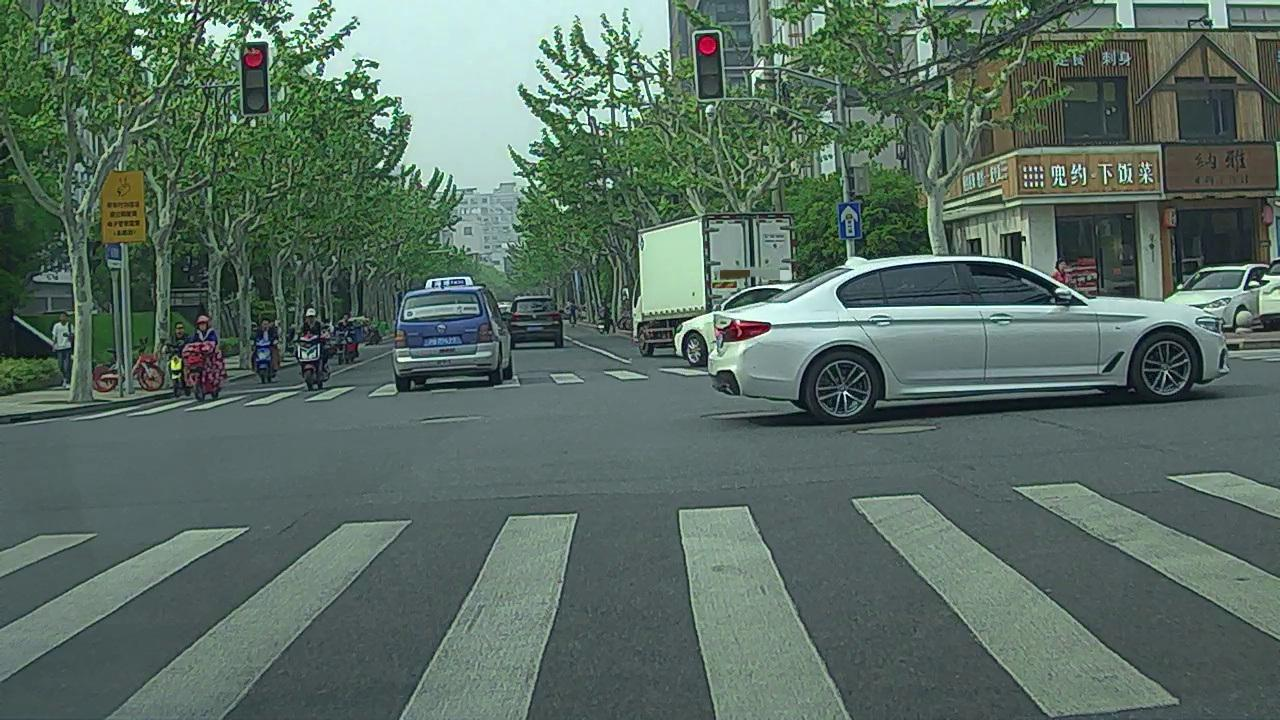traffic_light: (241, 44, 268, 111), (697, 34, 722, 97)
